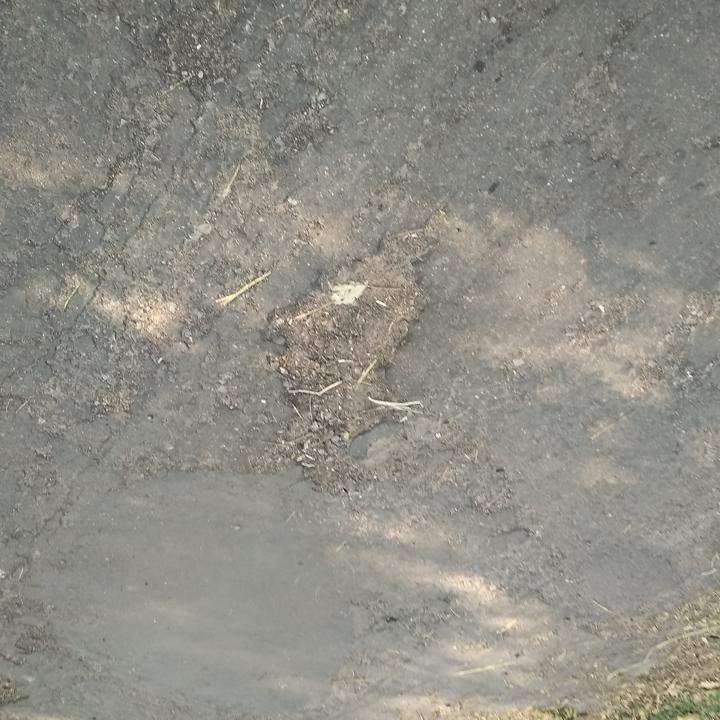pothole: (253, 222, 445, 498)
